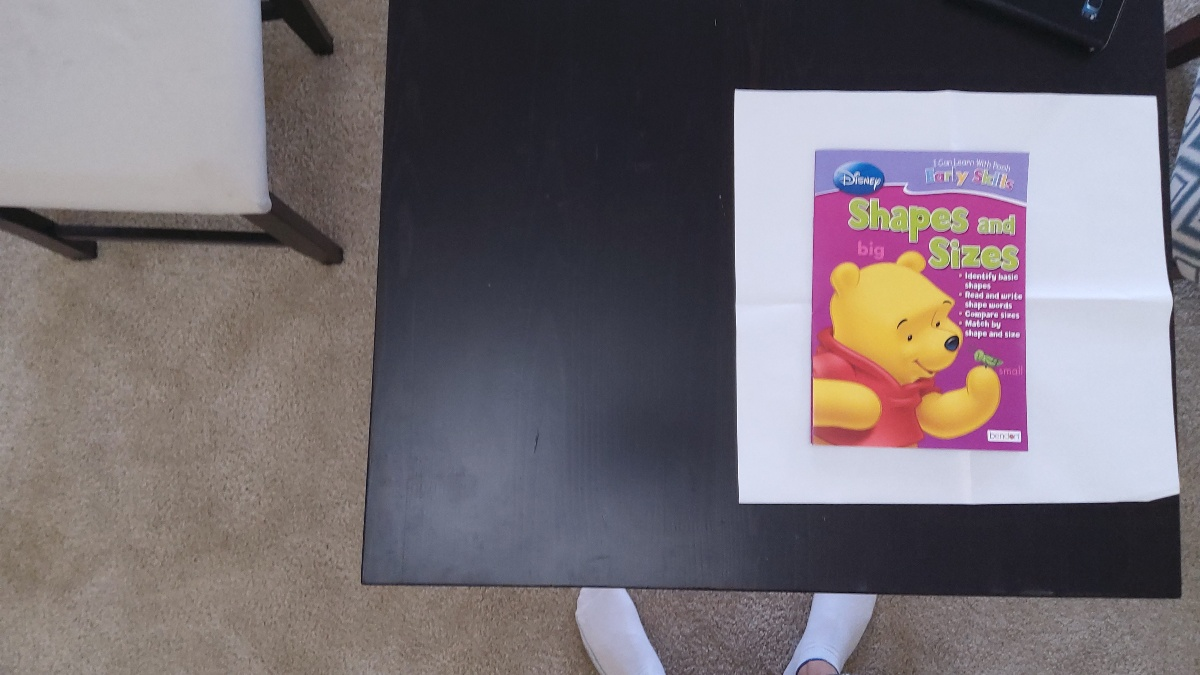book: (814, 148, 1028, 448)
